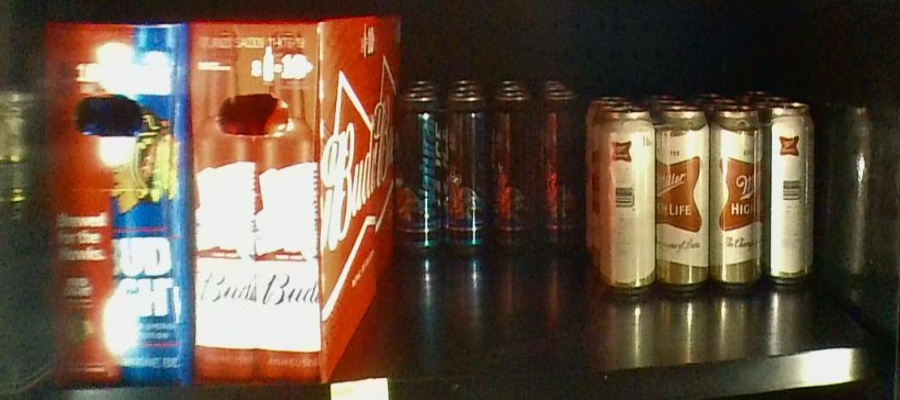bottle: (190, 20, 395, 367), (40, 24, 193, 386), (710, 108, 815, 288), (608, 108, 708, 292), (399, 98, 488, 254), (495, 95, 578, 253)
